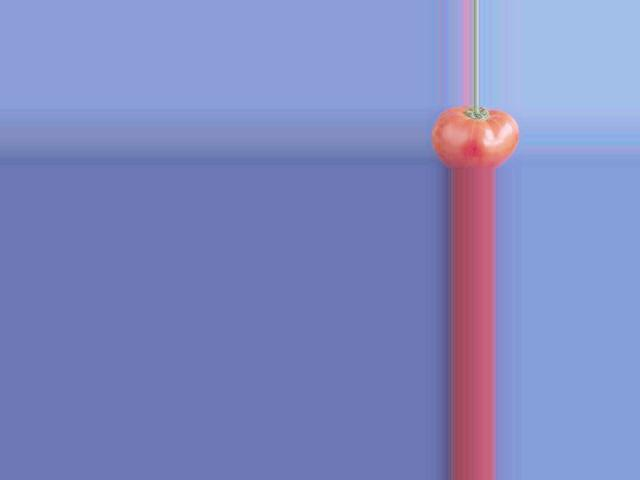tomato: (430, 105, 518, 170)
